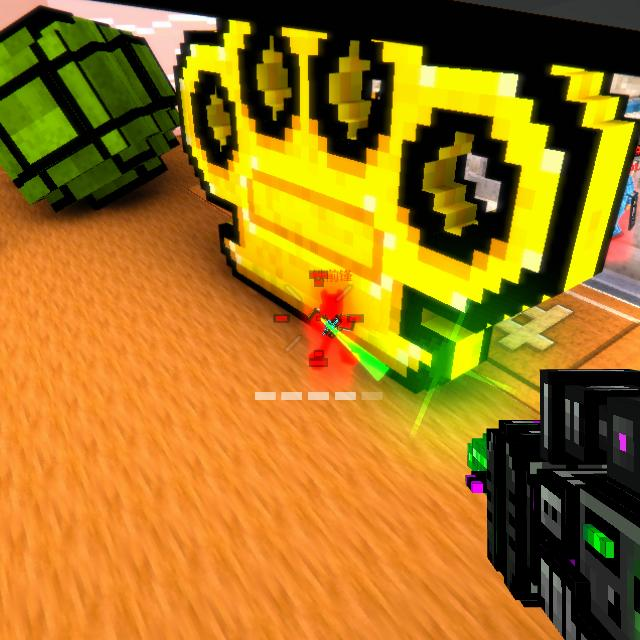Enemy: (304, 290, 357, 368)
